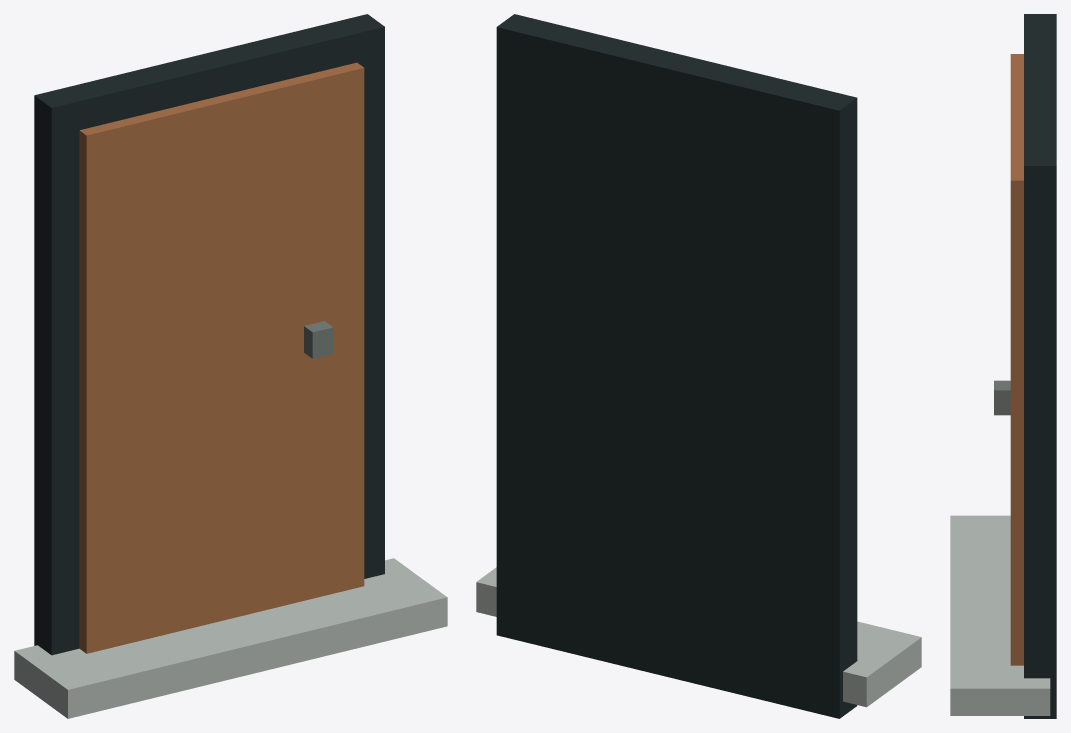
Rendered from component-entry-door.glb.
3 renders of one model, left to right at view 1: azimuth 30°, elevation 25°; view 2: azimuth 150°, elevation 25°; view 3: azimuth 270°, elevation 25°, orthographic. The views are drawn at different scales.
Parts seen in each view (by area): view 1: entry_door_panel, entry_door_frame, threshold, entry_door_handle; view 2: entry_door_frame, threshold; view 3: entry_door_frame, threshold, entry_door_panel, entry_door_handle.
Part boxes in pixels (x1,y1,x2,y2): entry_door_panel: [79, 62, 364, 653]; entry_door_frame: [34, 14, 384, 655]; threshold: [14, 558, 447, 718]; entry_door_handle: [304, 321, 333, 358]; entry_door_frame: [496, 14, 857, 718]; threshold: [476, 567, 921, 707]; entry_door_frame: [1024, 14, 1056, 718]; threshold: [950, 515, 1050, 715]; entry_door_panel: [1010, 54, 1023, 665]; entry_door_handle: [994, 380, 1010, 415].
Size of the model in its own units: 0.82 by 1.22 by 0.2125.
